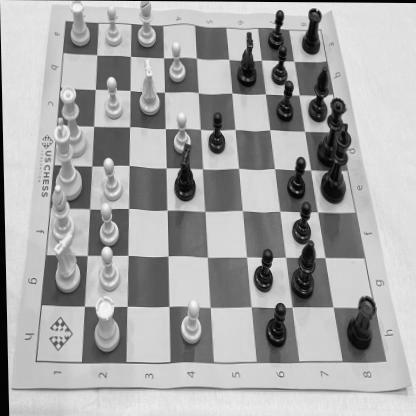black-bishop: (290, 240, 314, 300), (306, 64, 329, 123)
black-king: (319, 122, 351, 204)
black-knight: (171, 145, 196, 202), (236, 30, 258, 87)
black-pawn: (262, 299, 286, 349), (250, 247, 272, 294), (284, 155, 306, 199), (291, 202, 312, 244), (274, 78, 293, 122), (207, 109, 225, 155), (266, 6, 285, 48), (270, 47, 288, 84)
black-queen: (317, 97, 347, 165)
white-bishop: (48, 183, 76, 244), (135, 1, 158, 49)
white-king: (50, 115, 82, 202)
white-knight: (50, 232, 82, 293), (136, 58, 161, 116)
white-pawn: (95, 245, 121, 292), (178, 298, 202, 345), (101, 157, 122, 202), (102, 74, 122, 120), (103, 4, 123, 49), (97, 202, 118, 244), (172, 111, 192, 153), (166, 42, 186, 83)
white-queen: (54, 85, 88, 158)
white-rook: (342, 292, 376, 352), (89, 295, 119, 353), (66, 1, 90, 48), (300, 6, 322, 57)
